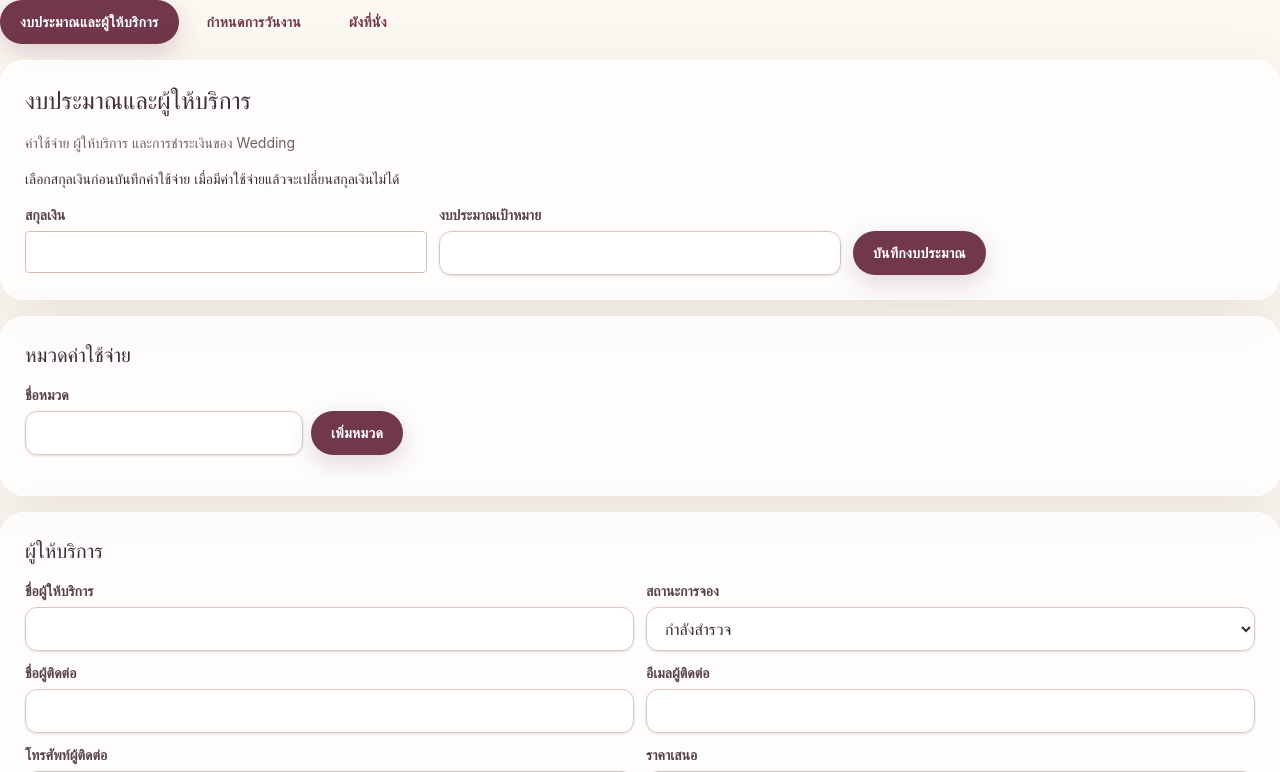
Test: OperationsWorkspace › uses Thai operations labels while keeping USD as the submitted currency
The image size is (1280, 772).
Expected: the button "งบประมาณและผู้ให้บริการ" is shown, [0, 0, 179, 44]
Type "USD" into the dropdown labelled "สกุลเงิน". click: (226, 252)
box: [25, 231, 427, 273]
Then press Arrowdown, Enter
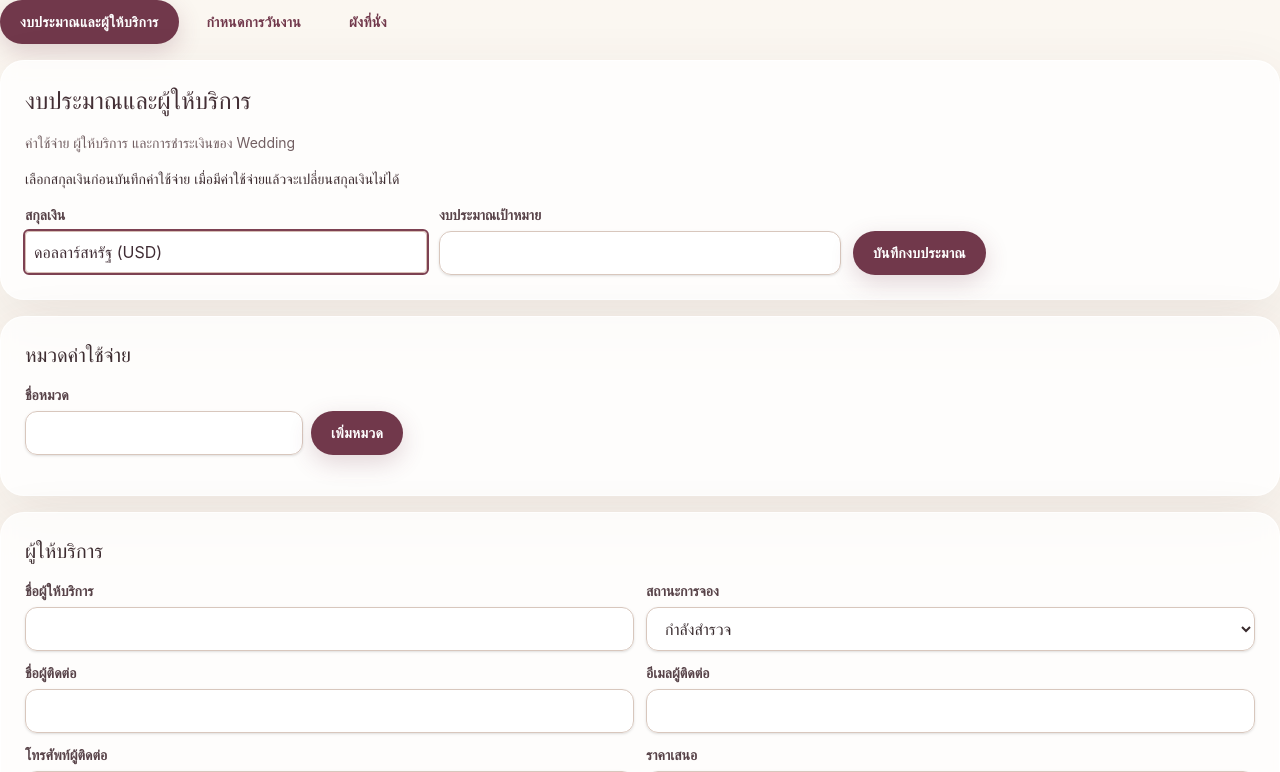
Click the button "บันทึกงบประมาณ". click: (920, 253)
box: [853, 231, 986, 275]
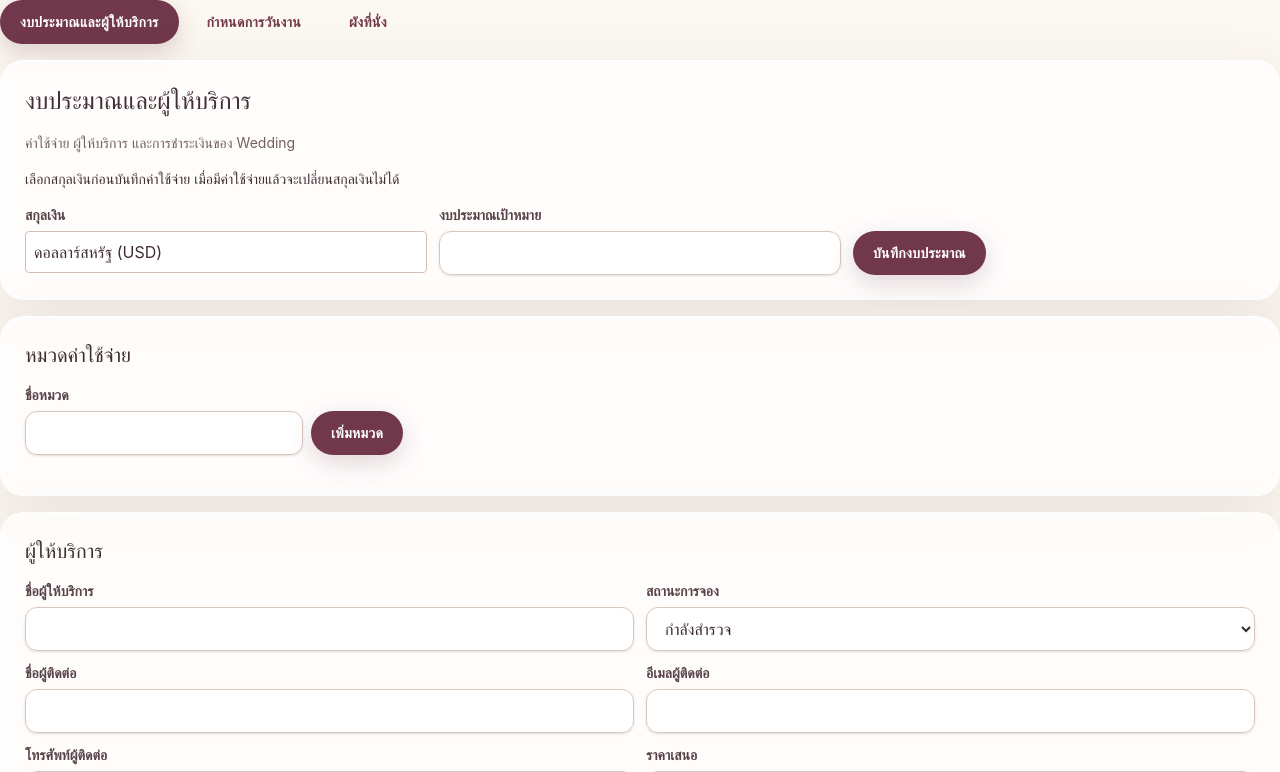
Click the button "กำหนดการวันงาน". click: (254, 22)
box: [187, 0, 321, 44]
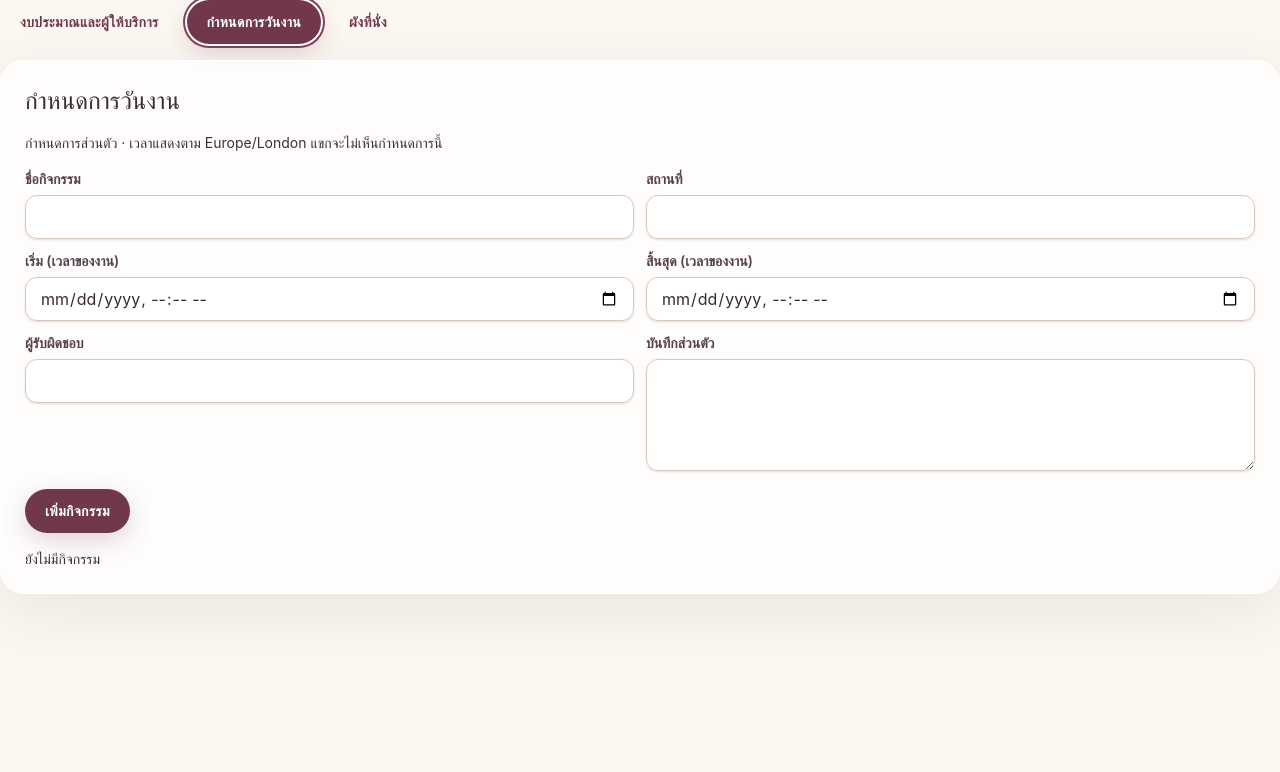
Expected: the heading "กำหนดการวันงาน" is shown, [25, 88, 180, 114]
Click the button "ผังที่นั่ง". click: (368, 22)
box: [329, 0, 407, 44]
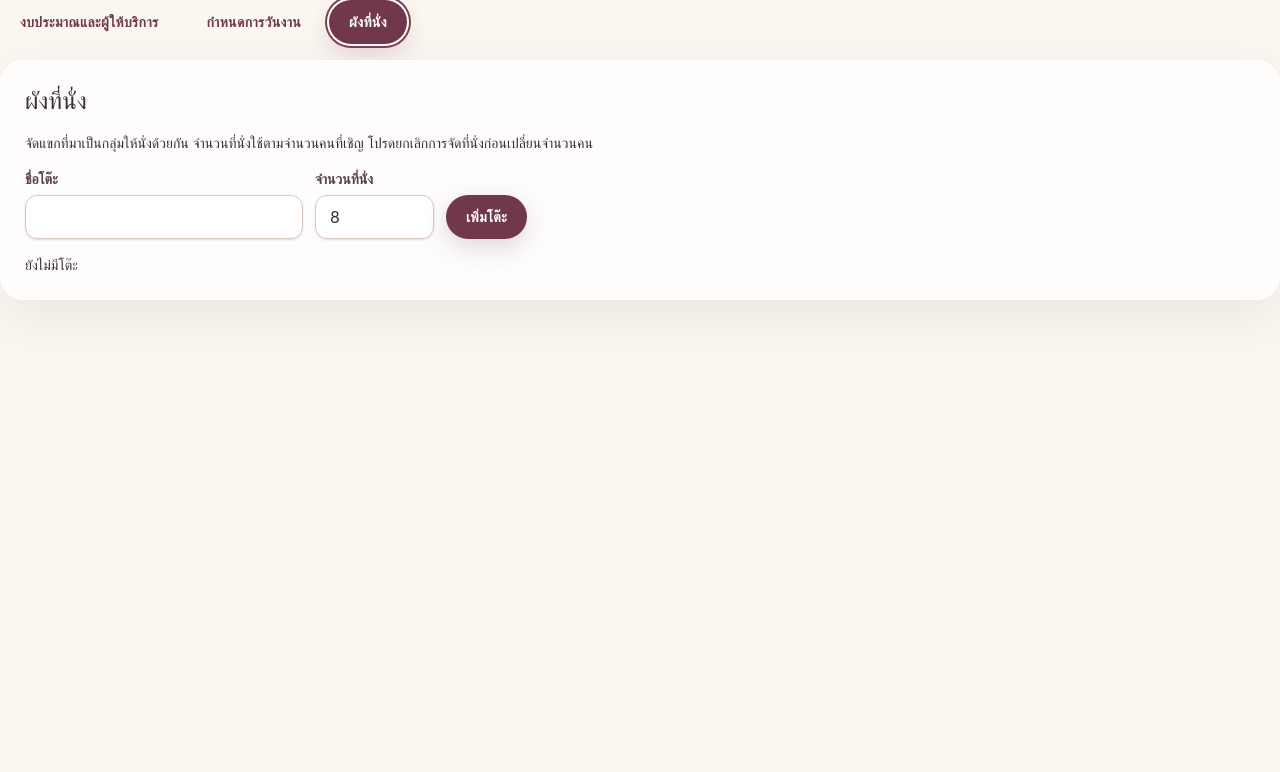
Expected: the heading "ผังที่นั่ง" is shown, [25, 88, 87, 114]
